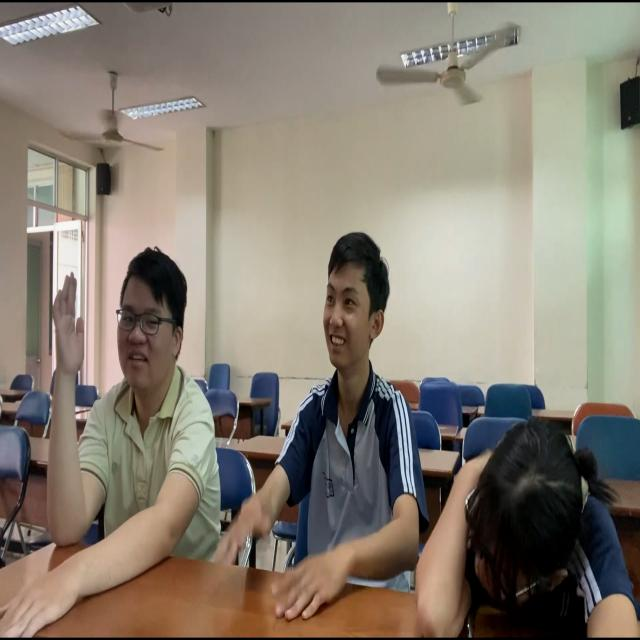raise_hand: (45, 237, 209, 632)
sleep: (403, 398, 640, 640)
